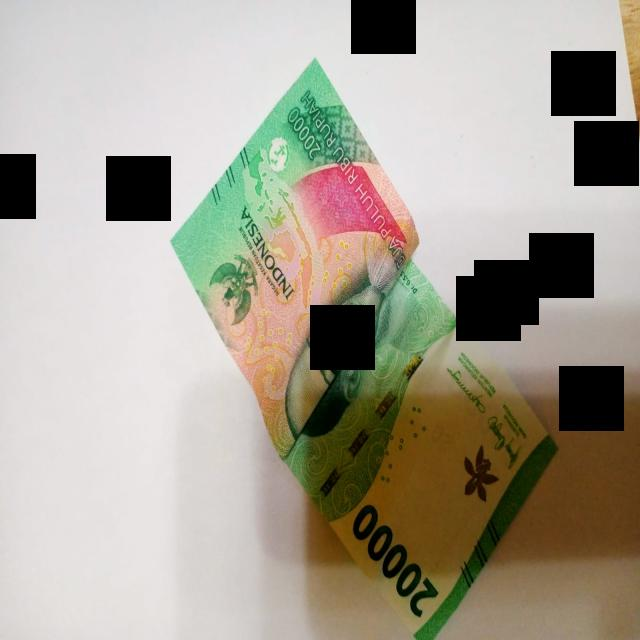dua puluh ribu rupiah: (172, 60, 556, 638)
